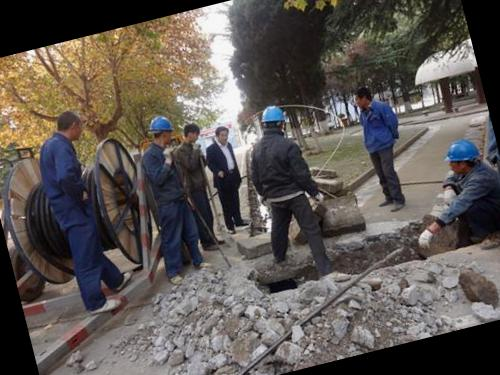no_helmet: (47, 100, 88, 144), (178, 118, 204, 146), (350, 82, 376, 110), (212, 122, 234, 146)
